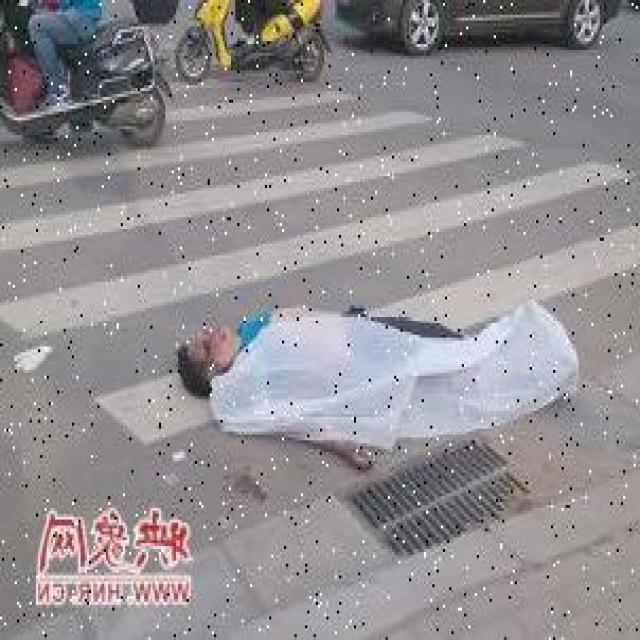fall: (180, 282, 576, 452)
